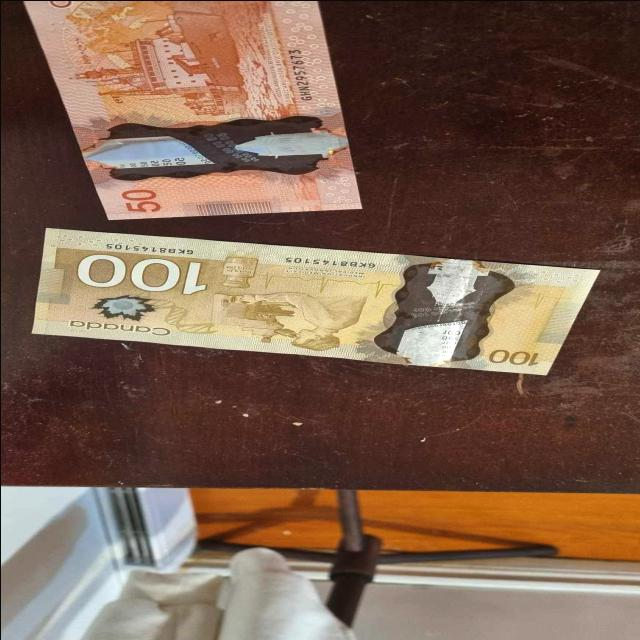100 cad: (34, 227, 564, 375)
50 cad: (23, 0, 371, 218)
